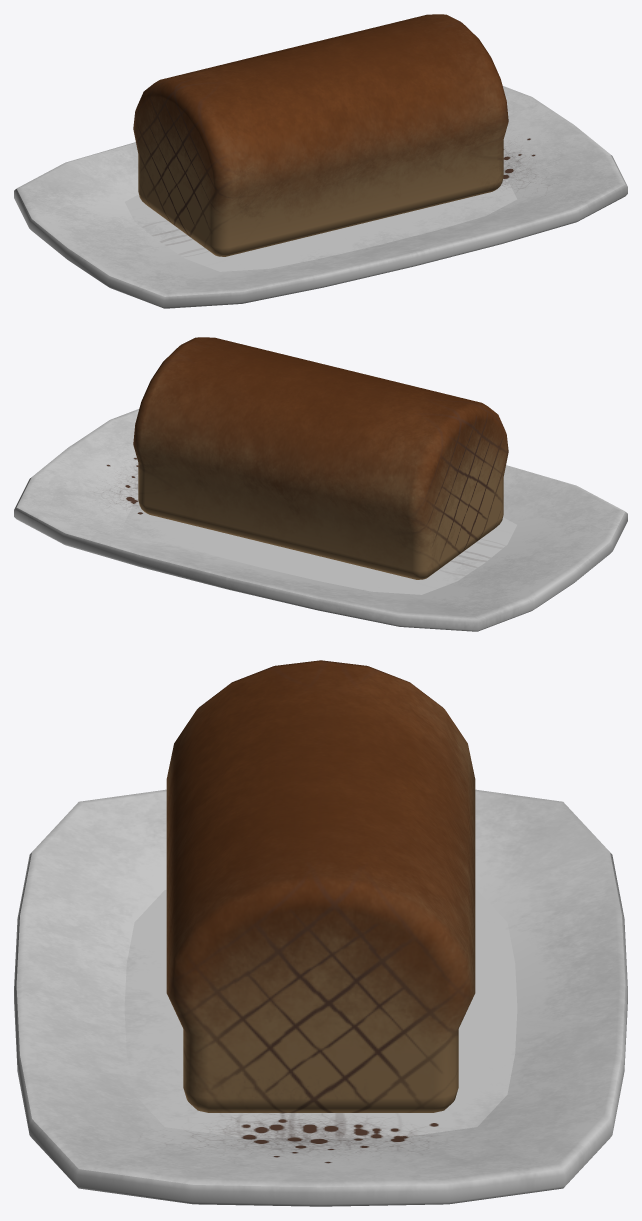
The model's file is bread.fbx.
3 views of the same model, one above another, from view 1: azimuth 30°, elevation 25°; view 2: azimuth 150°, elevation 25°; view 3: azimuth 270°, elevation 25° (orthographic). The views are drawn at different scales.
Parts seen in each view (by area): view 1: BreadLoaf_02; view 2: BreadLoaf_02; view 3: BreadLoaf_02.
Boxes of the visible parts, <box> form: BreadLoaf_02: <box>14,14,627,308</box>; BreadLoaf_02: <box>14,337,627,631</box>; BreadLoaf_02: <box>14,660,627,1206</box>.
Bounding box in the file's own units: 5.29 × 1.58 × 3.37.
1 material, 1 textured.
